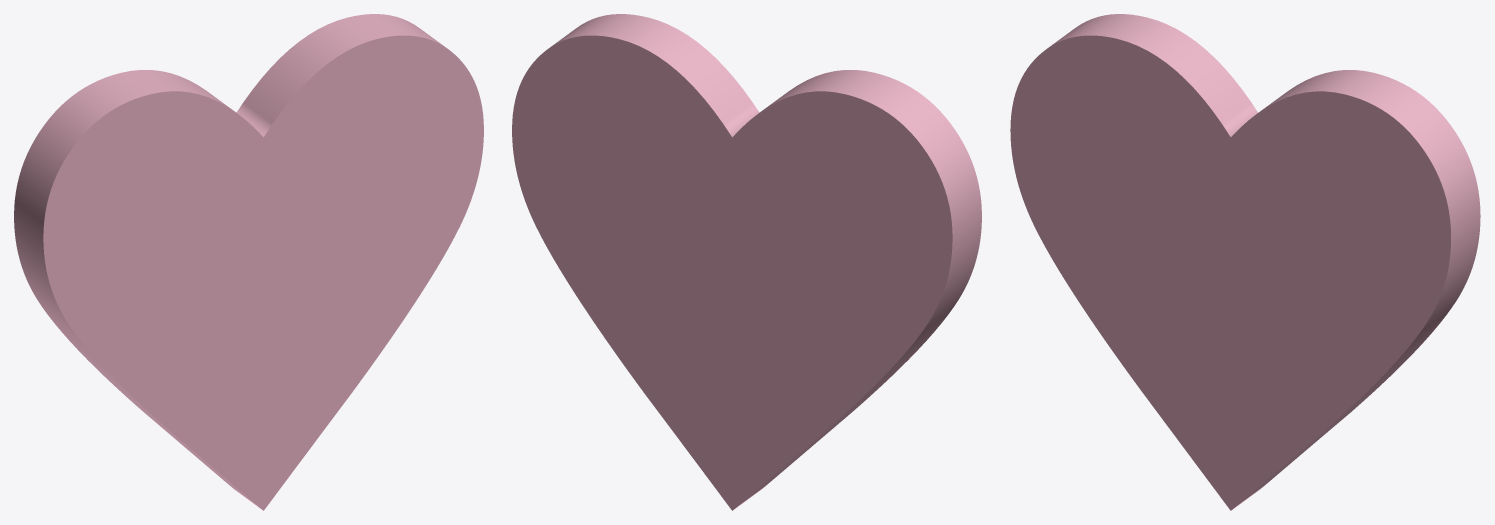
Rendered from title_hart.fbx.
The picture shows the model from 3 angles, left to right: view 1: azimuth 30°, elevation 25°; view 2: azimuth 150°, elevation 25°; view 3: azimuth 330°, elevation 25°; orthographic projection.
Visible parts, largest first — view 1: テキスト; view 2: テキスト; view 3: テキスト.
Boxes of the visible parts, box(x1,y1,x2,y2) form: テキスト: box(14, 14, 483, 510); テキスト: box(512, 14, 981, 510); テキスト: box(1010, 14, 1480, 510).
Bounding box in the file's own units: 3.12 × 3 × 0.36.
